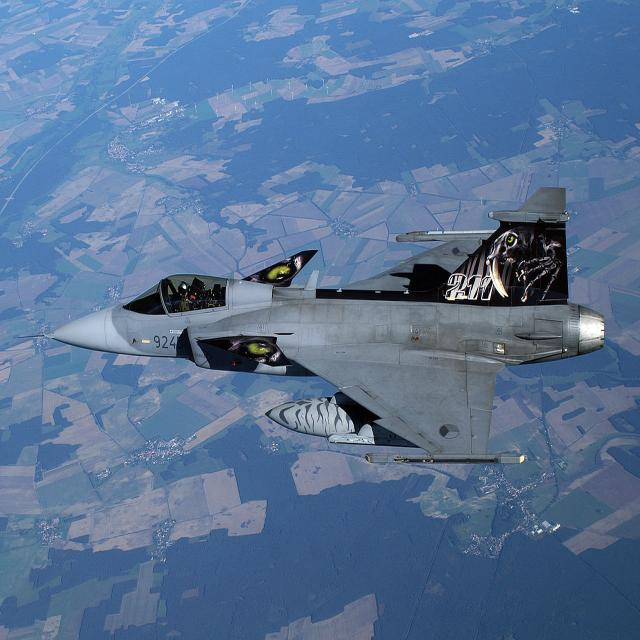MIL_Plane: (18, 185, 604, 462)
